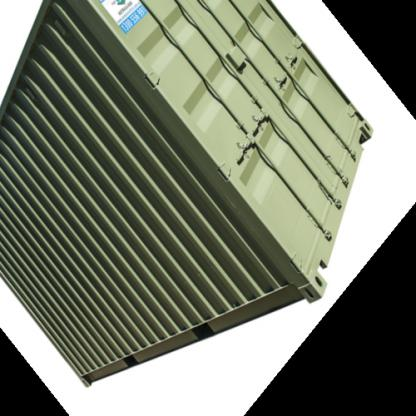Damage: (217, 192, 239, 217)
